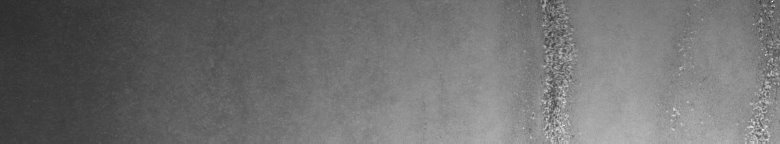hc: (524, 4, 581, 136)
